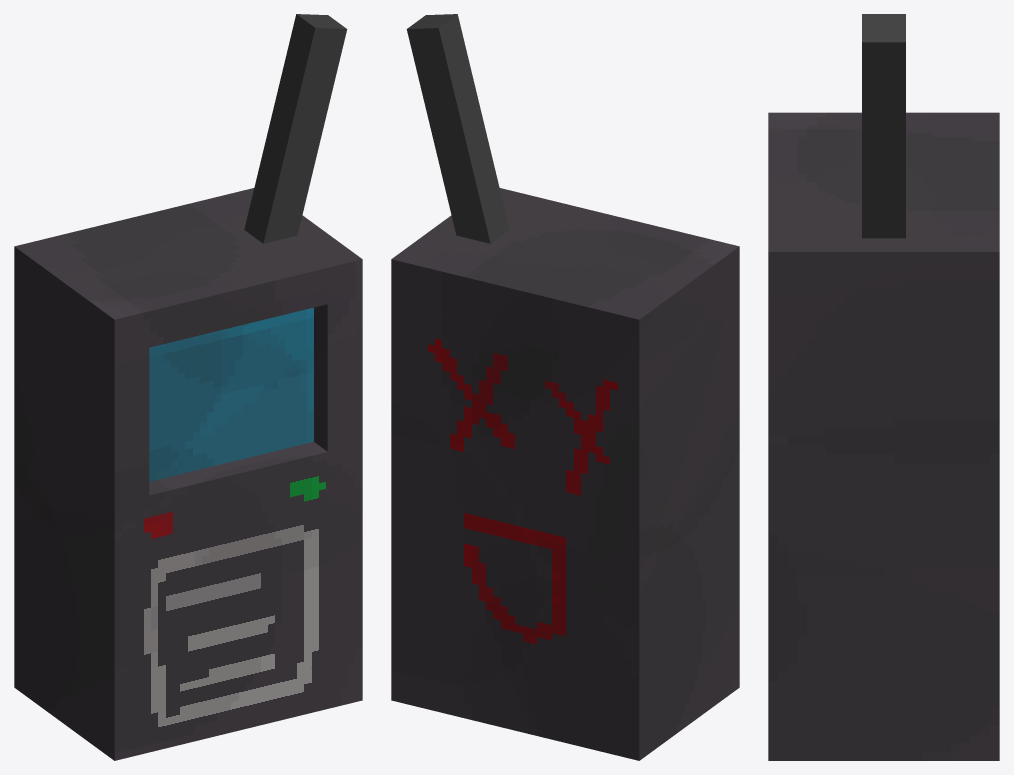
The model's file is MuseumDevice.glb.
The picture shows the model from 3 angles, left to right: view 1: azimuth 30°, elevation 25°; view 2: azimuth 150°, elevation 25°; view 3: azimuth 270°, elevation 25°; orthographic projection. The views are drawn at different scales.
Visible parts, largest first — view 1: Device, Antennae; view 2: Device, Antennae; view 3: Device, Antennae.
Boxes of the visible parts, left/top/right/bottom form: Device: left=14, top=188, right=362, bottom=760; Antennae: left=244, top=14, right=347, bottom=243; Device: left=391, top=188, right=739, bottom=760; Antennae: left=406, top=14, right=509, bottom=243; Device: left=768, top=112, right=999, bottom=760; Antennae: left=862, top=14, right=905, bottom=238.
Size of the model in its own units: 0.3306 by 0.7449 by 0.21.
2 materials, 1 textured.
